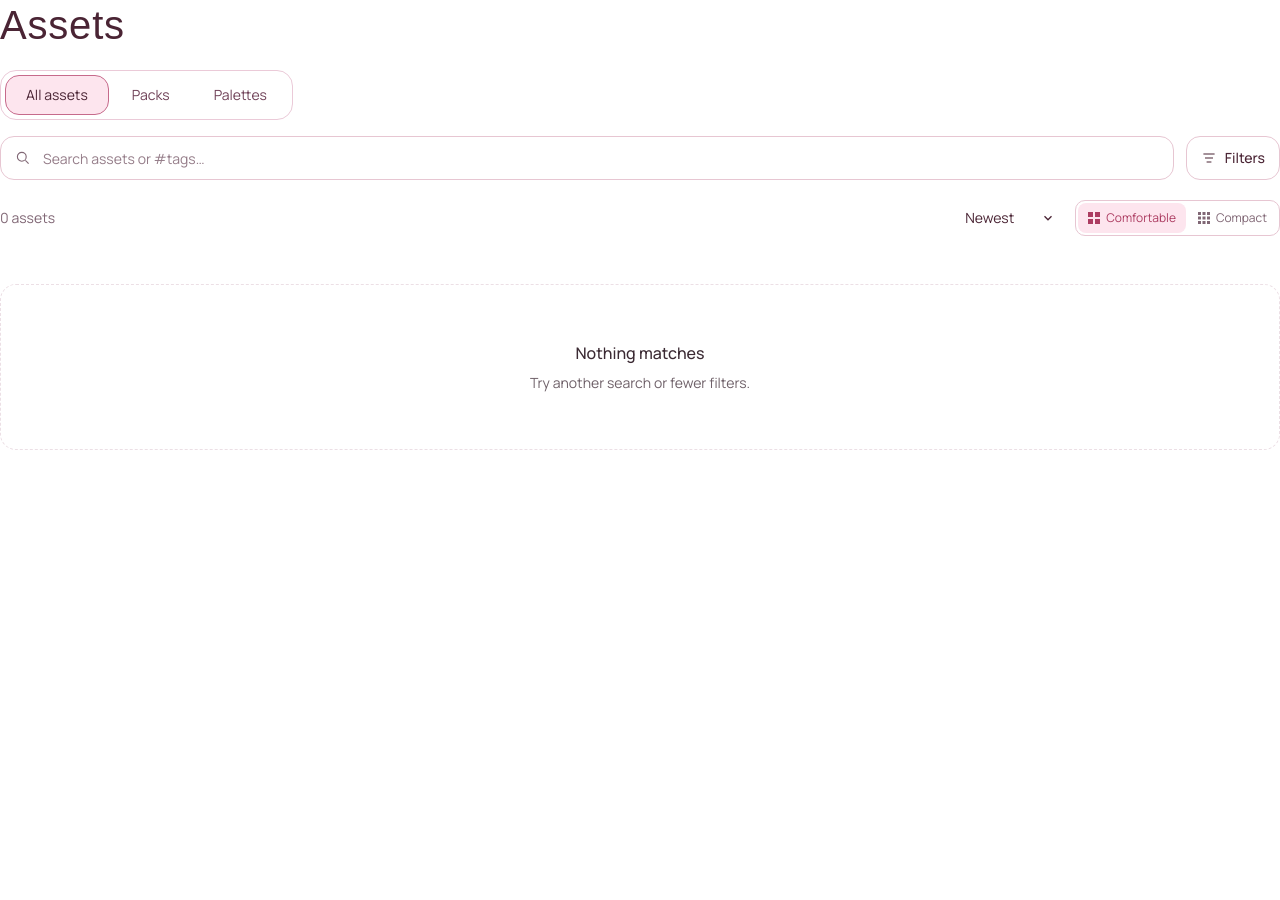
Test: keeps Apply available when the matching-count request fails
The width and height of the screenshot is (1280, 900).
Click the button "Filters": {"x": 1233, "y": 158} [1186,136,1279,180]
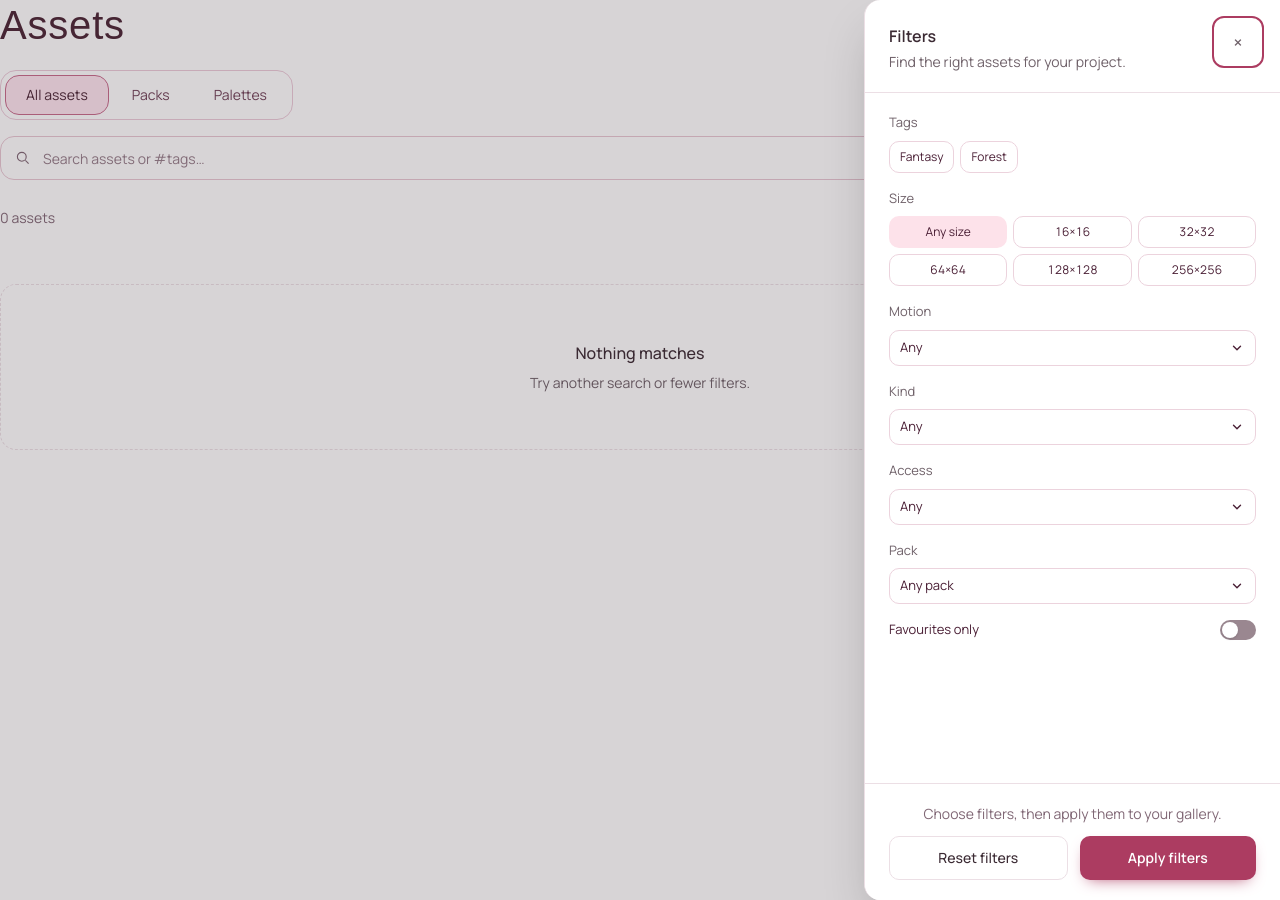
Check: the button "Apply filters" is enabled, box [1080,836,1256,880]
